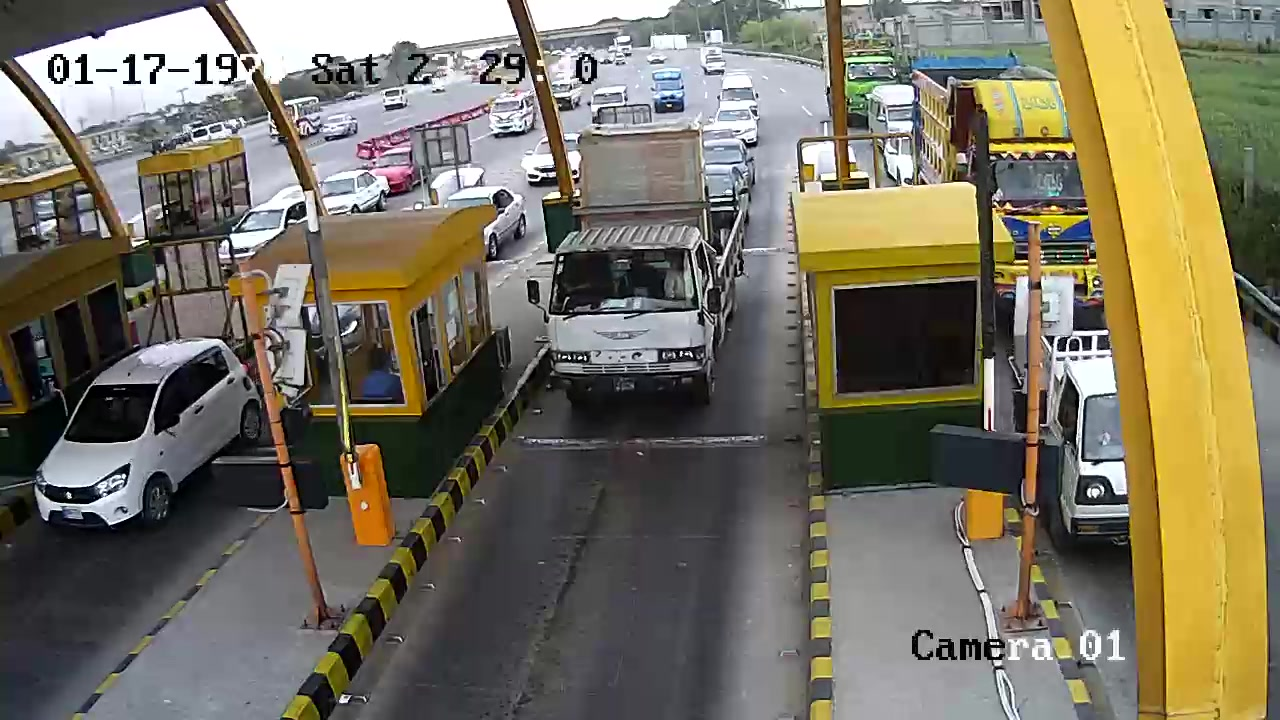F3: (550, 112, 738, 412)
